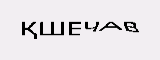А: (99, 14, 122, 37)
В: (124, 14, 140, 35)
Е: (67, 19, 84, 38)
Ч: (84, 18, 99, 33)
Ш: (39, 17, 66, 39)
Қ: (18, 18, 38, 40)
